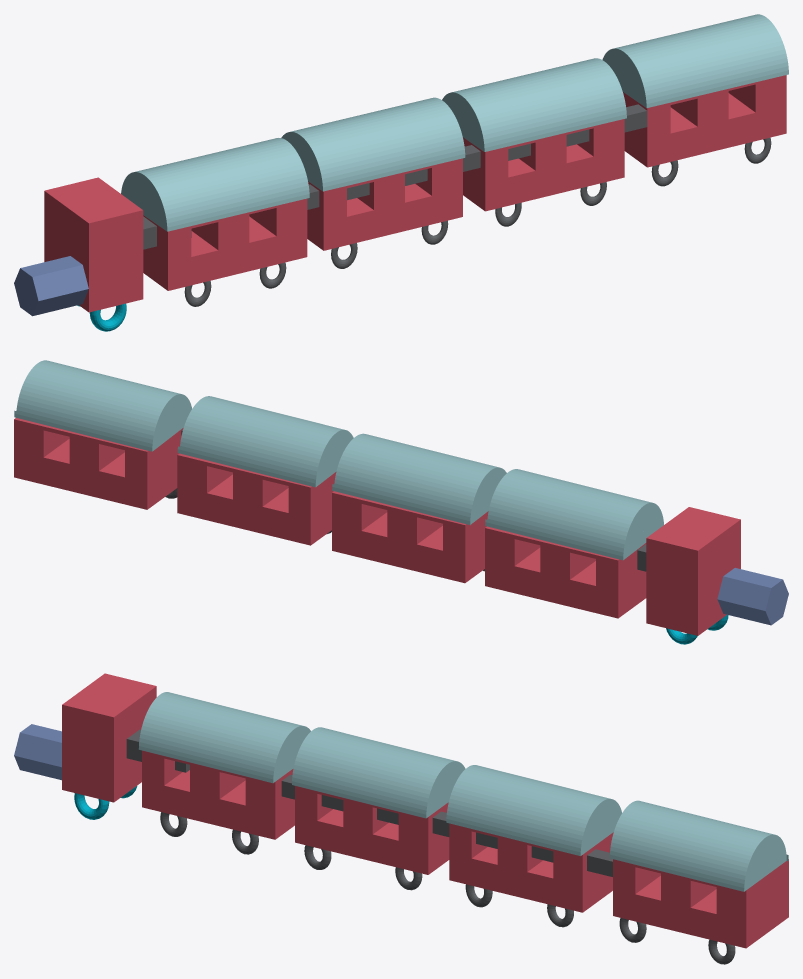
The model's file is Grand Allis-Albar.glb.
3 renders of one model, top to bottom at view 1: azimuth 30°, elevation 25°; view 2: azimuth 150°, elevation 25°; view 3: azimuth 330°, elevation 25°, orthographic. The views are drawn at different scales.
Visible parts, largest first — view 1: Mesh_Mesh_head_geo.001_lambert2SG.001; view 2: Mesh_Mesh_head_geo.001_lambert2SG.001; view 3: Mesh_Mesh_head_geo.001_lambert2SG.001.
Part boxes in pixels (left/top/right/bottom): Mesh_Mesh_head_geo.001_lambert2SG.001: left=14, top=14, right=788, bottom=331; Mesh_Mesh_head_geo.001_lambert2SG.001: left=14, top=360, right=788, bottom=644; Mesh_Mesh_head_geo.001_lambert2SG.001: left=14, top=673, right=788, bottom=964.
Bounding box in the file's own units: 196 × 32 × 24.
